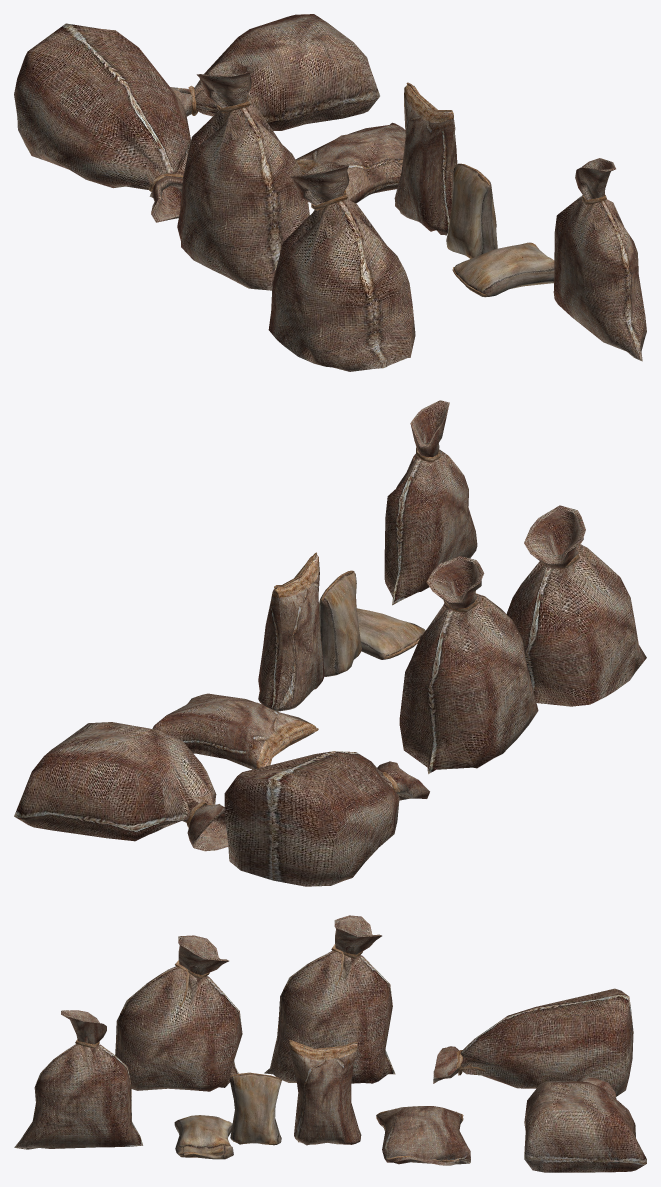
Rendered from sacks.fbx.
The picture shows the model from 3 angles, top to bottom: view 1: azimuth 30°, elevation 25°; view 2: azimuth 150°, elevation 25°; view 3: azimuth 270°, elevation 25°; orthographic projection. The views are drawn at different scales.
Parts seen in each view (by area): view 1: MiscSackLargeFlat02, MiscSackLargeFlat01, MiscSackLarge, MiscSackLargeFlat03, MiscSackSmall, MiscSack02Large, MiscSack02Large01, MiscSack02Small, MiscSack02SmallFlat; view 2: MiscSackLarge, MiscSackLargeFlat02, MiscSackLargeFlat03, MiscSackLargeFlat01, MiscSackSmall, MiscSack02Large, MiscSack02Large01, MiscSack02Small, MiscSack02SmallFlat; view 3: MiscSackLargeFlat01, MiscSackLargeFlat02, MiscSackLarge, MiscSackSmall, MiscSackLargeFlat03, MiscSack02Large, MiscSack02Large01, MiscSack02Small, MiscSack02SmallFlat.
Part boxes in pixels (x1=…): MiscSackLargeFlat02: x1=14, y1=23, x2=190, y2=222; MiscSackLargeFlat01: x1=268, y1=163, x2=415, y2=371; MiscSackLarge: x1=177, y1=60, x2=309, y2=290; MiscSackLargeFlat03: x1=170, y1=14, x2=379, y2=130; MiscSackSmall: x1=553, y1=158, x2=646, y2=361; MiscSack02Large: x1=394, y1=82, x2=457, y2=235; MiscSack02Large01: x1=295, y1=122, x2=405, y2=203; MiscSack02Small: x1=446, y1=163, x2=497, y2=258; MiscSack02SmallFlat: x1=452, y1=242, x2=554, y2=297; MiscSackLarge: x1=399, y1=556, x2=538, y2=774; MiscSackLargeFlat02: x1=224, y1=751, x2=429, y2=886; MiscSackLargeFlat03: x1=14, y1=722, x2=228, y2=851; MiscSackLargeFlat01: x1=506, y1=505, x2=646, y2=706; MiscSackSmall: x1=384, y1=400, x2=477, y2=605; MiscSack02Large: x1=258, y1=552, x2=324, y2=711; MiscSack02Large01: x1=152, y1=693, x2=318, y2=769; MiscSack02Small: x1=319, y1=570, x2=361, y2=676; MiscSack02SmallFlat: x1=356, y1=608, x2=425, y2=659; MiscSackLargeFlat01: x1=115, y1=935, x2=242, y2=1091; MiscSackLargeFlat02: x1=433, y1=988, x2=633, y2=1096; MiscSackLarge: x1=264, y1=915, x2=395, y2=1083; MiscSackSmall: x1=14, y1=1010, x2=142, y2=1149; MiscSackLargeFlat03: x1=524, y1=1076, x2=646, y2=1172; MiscSack02Large: x1=289, y1=1040, x2=361, y2=1145; MiscSack02Large01: x1=376, y1=1106, x2=470, y2=1165; MiscSack02Small: x1=229, y1=1072, x2=281, y2=1145; MiscSack02SmallFlat: x1=174, y1=1115, x2=233, y2=1159.
Bounding box in the file's own units: 122 × 70.16 × 268.
